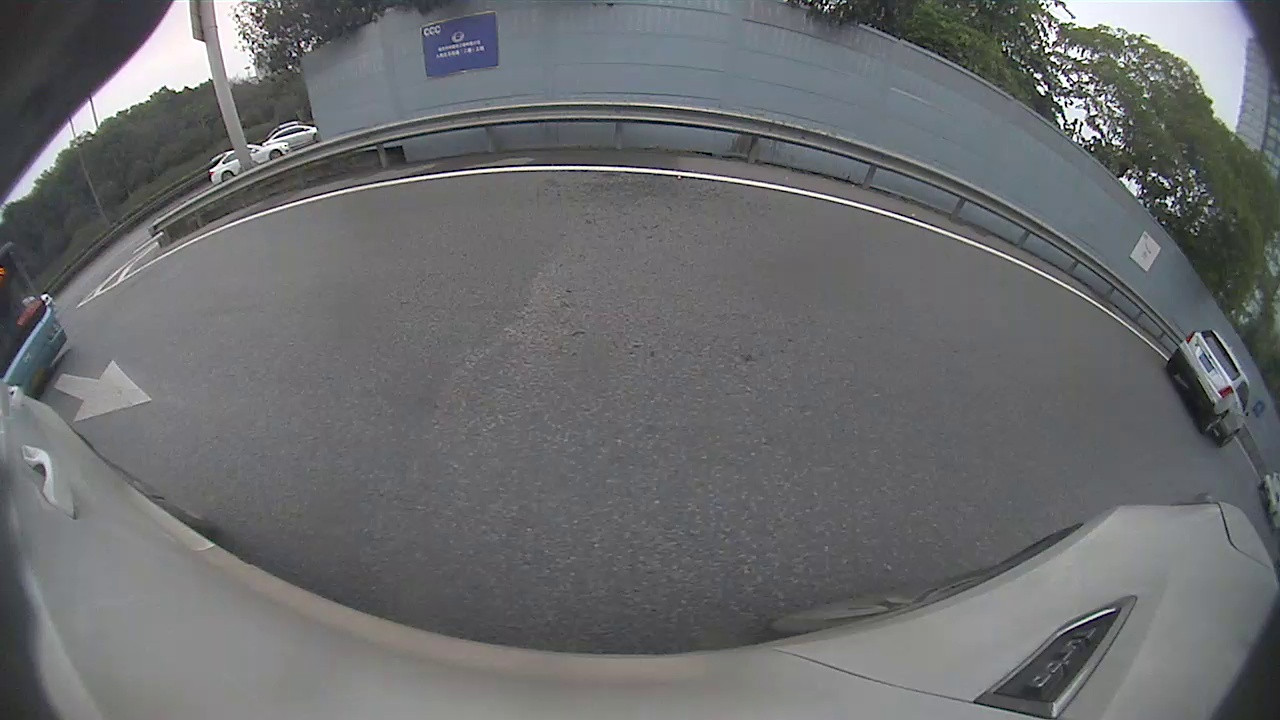bus: (3, 239, 68, 392)
car: (1165, 328, 1247, 445), (210, 144, 287, 182), (264, 124, 318, 153)
front: (1221, 431, 1238, 450), (270, 150, 283, 163)
rear: (1200, 414, 1227, 437), (221, 171, 235, 180)
